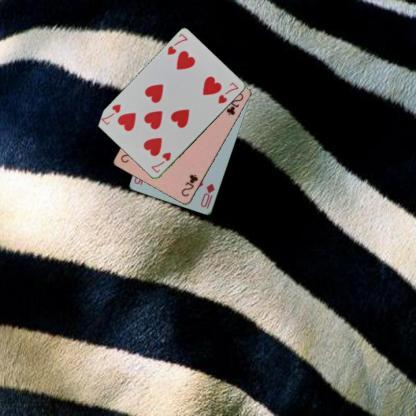10d: (198, 180, 216, 209)
2c: (178, 172, 200, 198)
7h: (164, 31, 190, 56), (148, 150, 172, 174)
